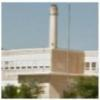chimneys: (49, 4, 60, 49)
